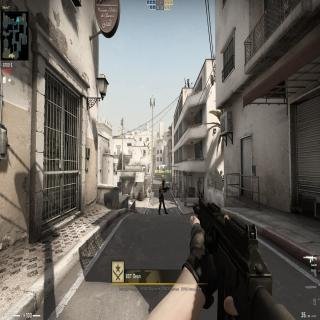T-Head: (162, 180, 165, 186)
